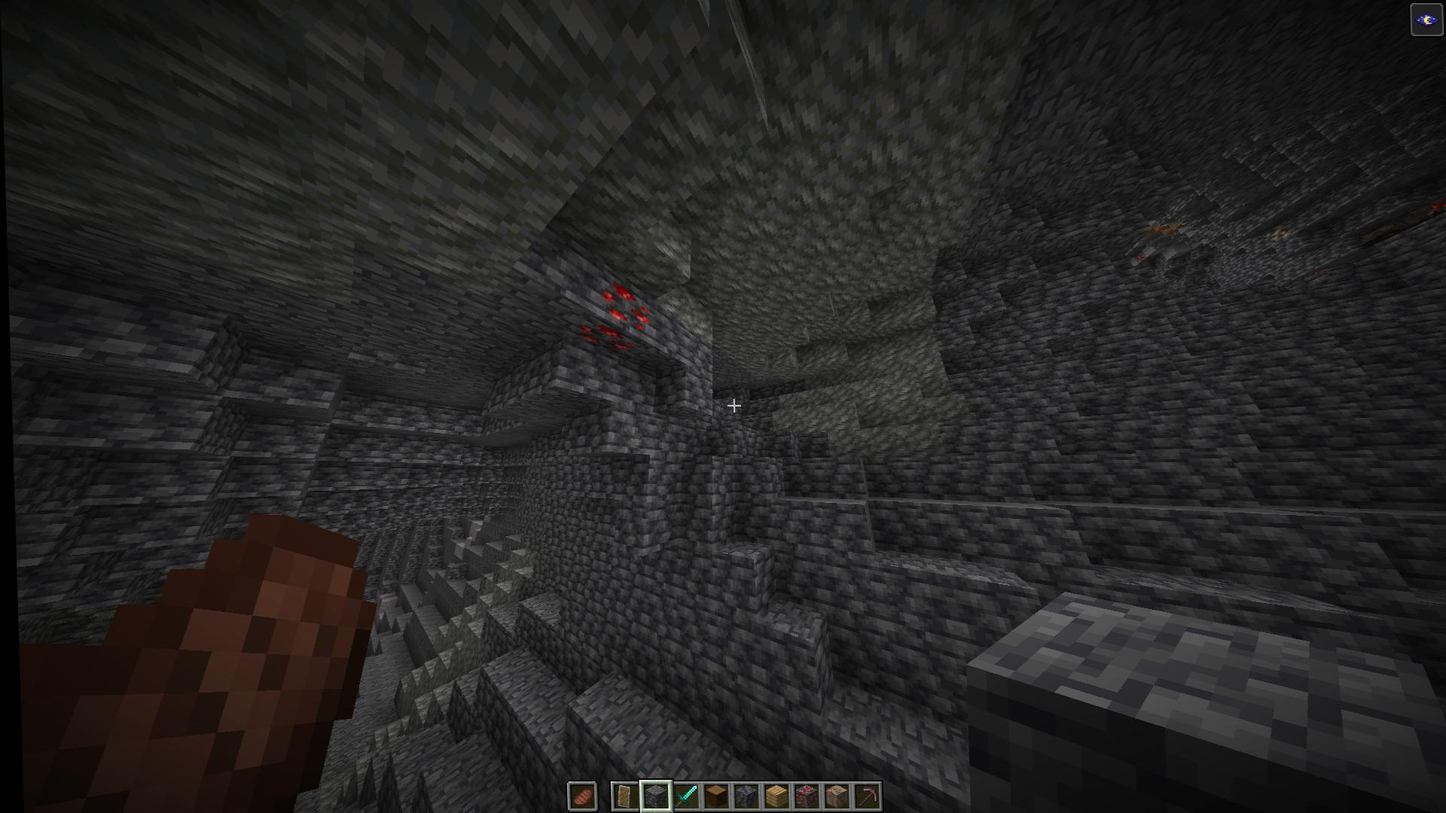redstone ore: (593, 275, 652, 328), (577, 320, 631, 358)
